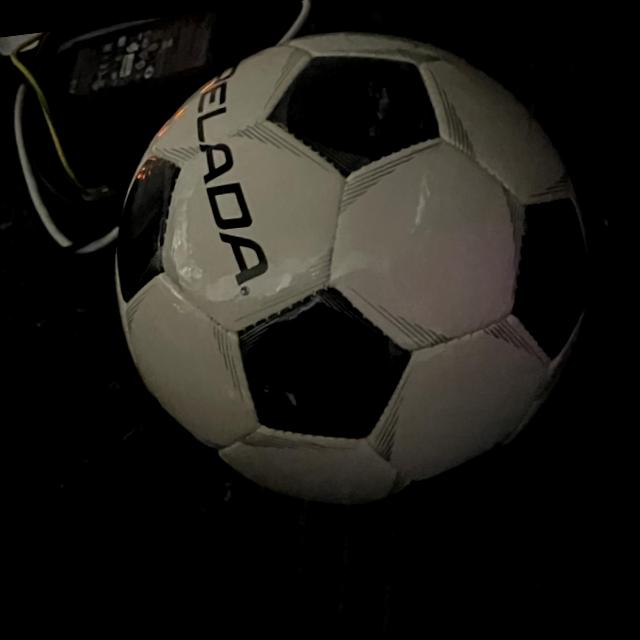Soccer Ball: (86, 5, 622, 532)
